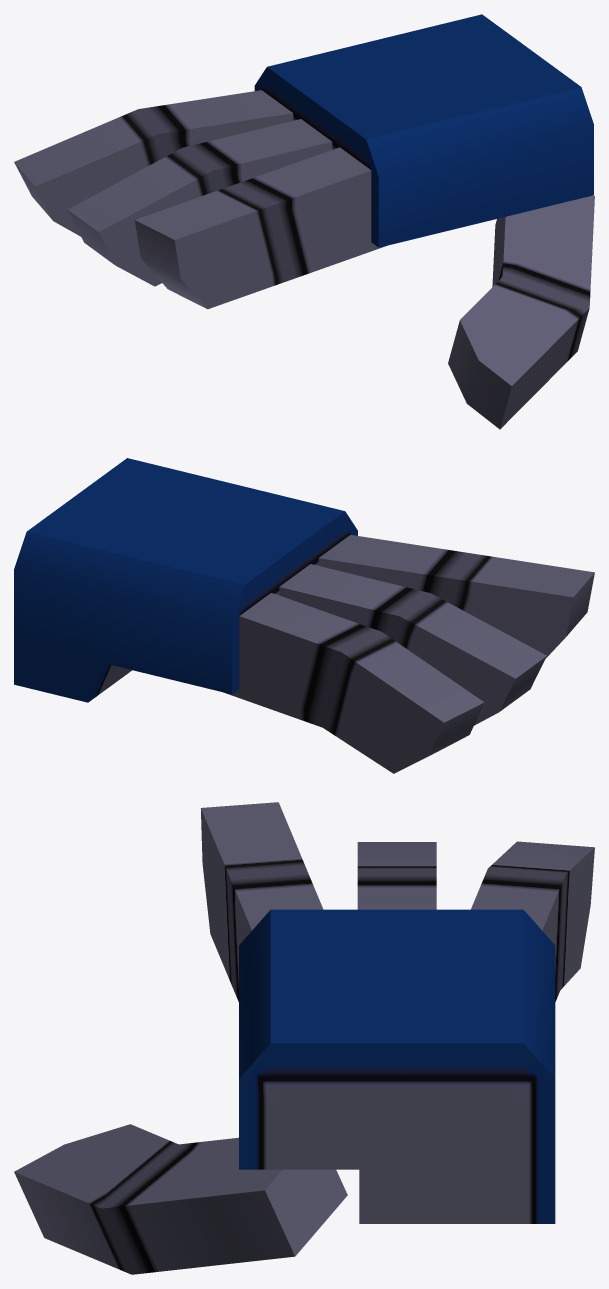
3 renders of one model, top to bottom at view 1: azimuth 30°, elevation 25°; view 2: azimuth 150°, elevation 25°; view 3: azimuth 270°, elevation 25°, orthographic. The views are drawn at different scales.
Visible parts, largest first — view 1: Joint_0_Object_0; view 2: Joint_0_Object_0; view 3: Joint_0_Object_0.
Boxes of the visible parts, x1,y1,x2,y2 form: Joint_0_Object_0: [14, 14, 594, 429]; Joint_0_Object_0: [14, 458, 594, 773]; Joint_0_Object_0: [14, 802, 594, 1274].
Size of the model in its own units: 63.59 by 31.12 by 54.54.
Materials: 1 (1 with a texture image).
